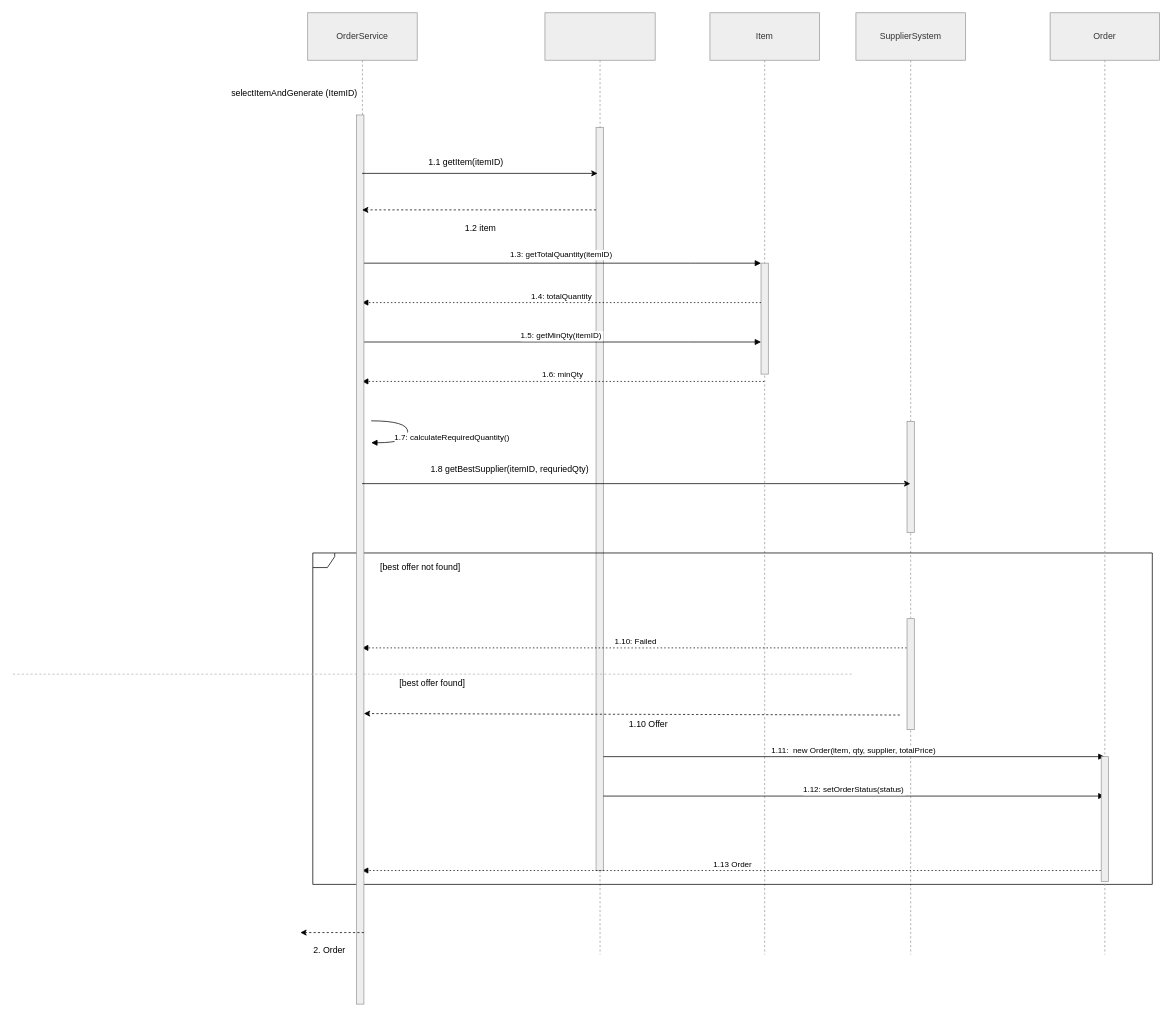
This 1172x1017 diagram has some shape labels left out. The shapes that lost their labels are listed below. From the top down, each one's box as (x1, y1, x2, y2) in pixels, then its label:
(544, 12, 655, 954): InventoryService
(312, 552, 1152, 884): alt
